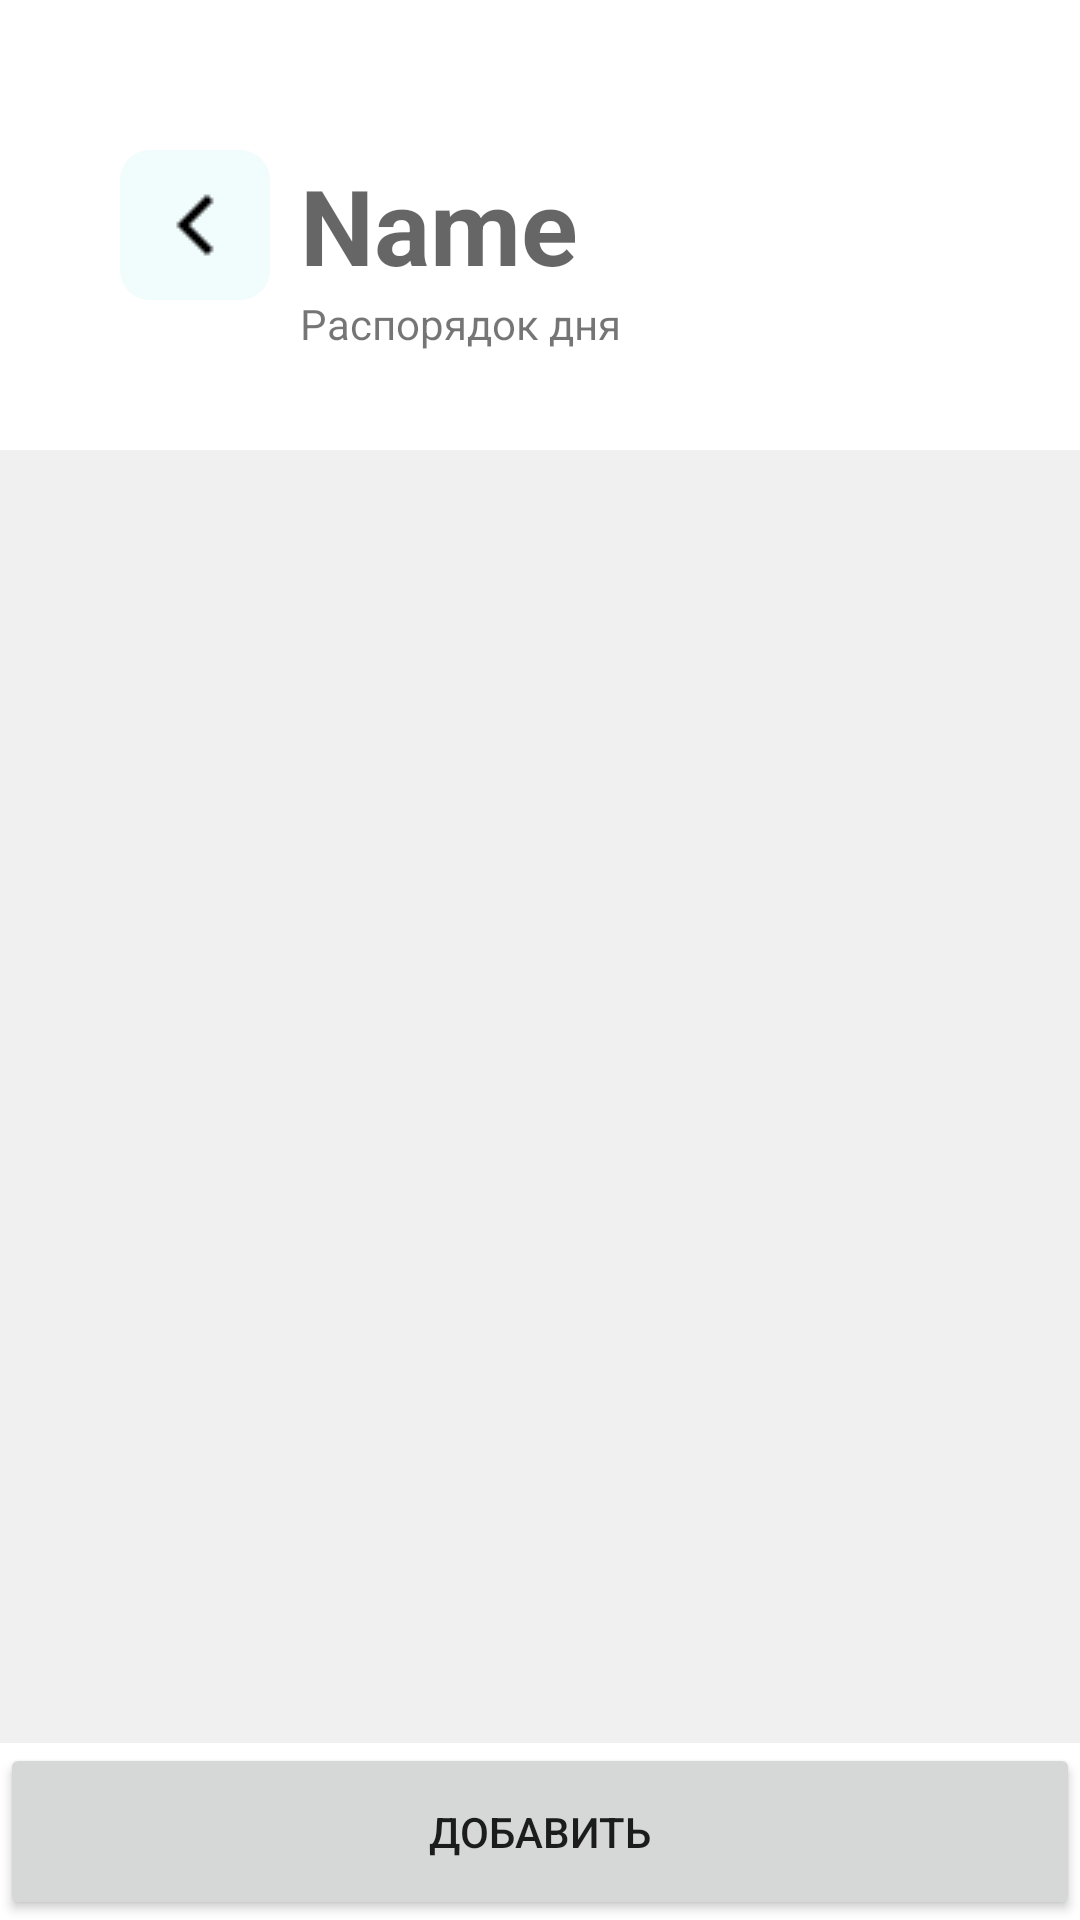

Where icons sit on this 1080w x 1920h app screen, as (x1, y1, x2, y2):
back: (120, 150, 270, 300)
